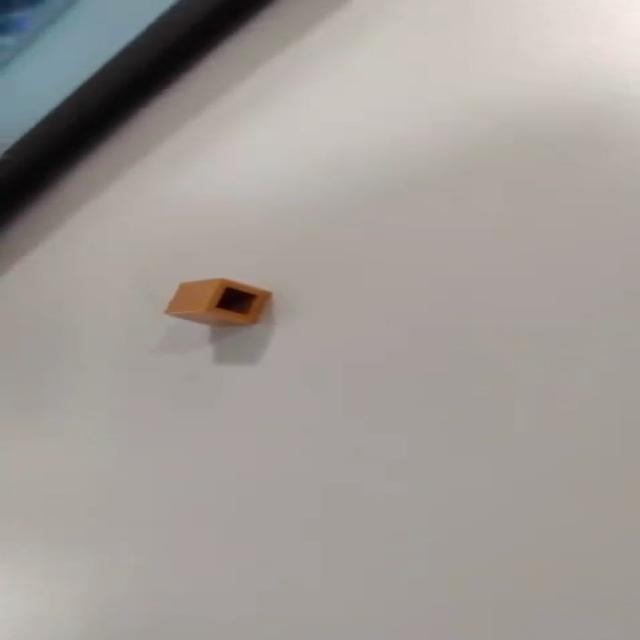C1x1x1: (162, 276, 273, 328)
